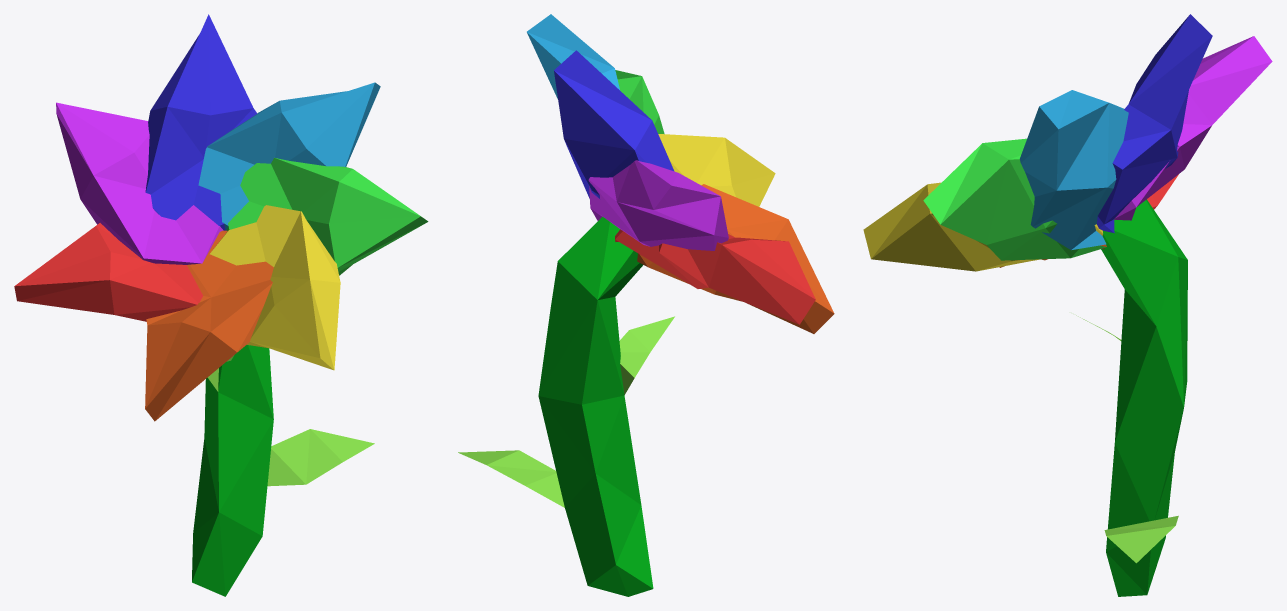
The model's file is rainbowflower.01.gltf.
3 renders of one model, left to right at view 1: azimuth 30°, elevation 25°; view 2: azimuth 150°, elevation 25°; view 3: azimuth 270°, elevation 25°, orthographic. The views are drawn at different scales.
Visible parts, largest first — view 1: rainbow_flower.01; view 2: rainbow_flower.01; view 3: rainbow_flower.01.
Part boxes in pixels (x1,y1,x2,y2): rainbow_flower.01: [14, 14, 428, 596]; rainbow_flower.01: [458, 14, 834, 596]; rainbow_flower.01: [863, 14, 1272, 596].
Size of the model in its own units: 0.5113 by 0.7618 by 0.4773.
